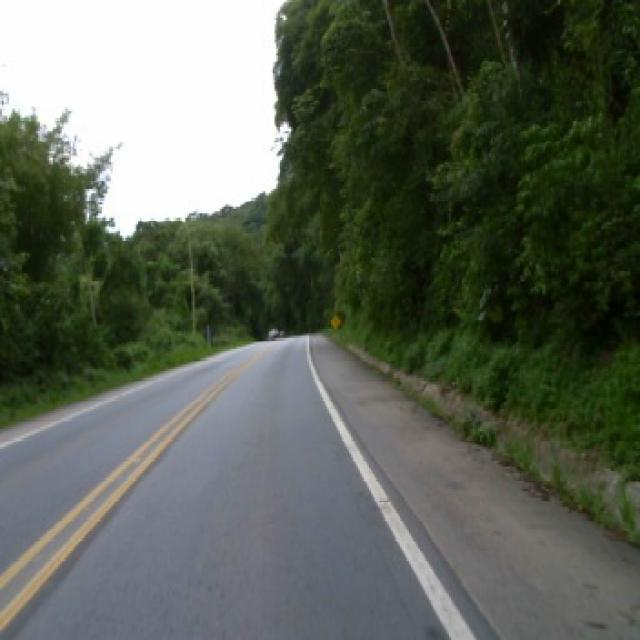Poth-hole: (376, 493, 389, 502), (131, 453, 140, 460)
